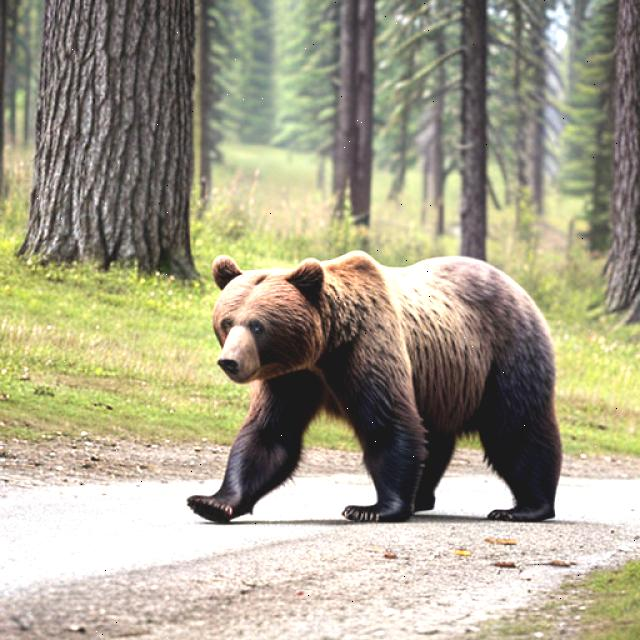bear: (178, 237, 548, 518)
